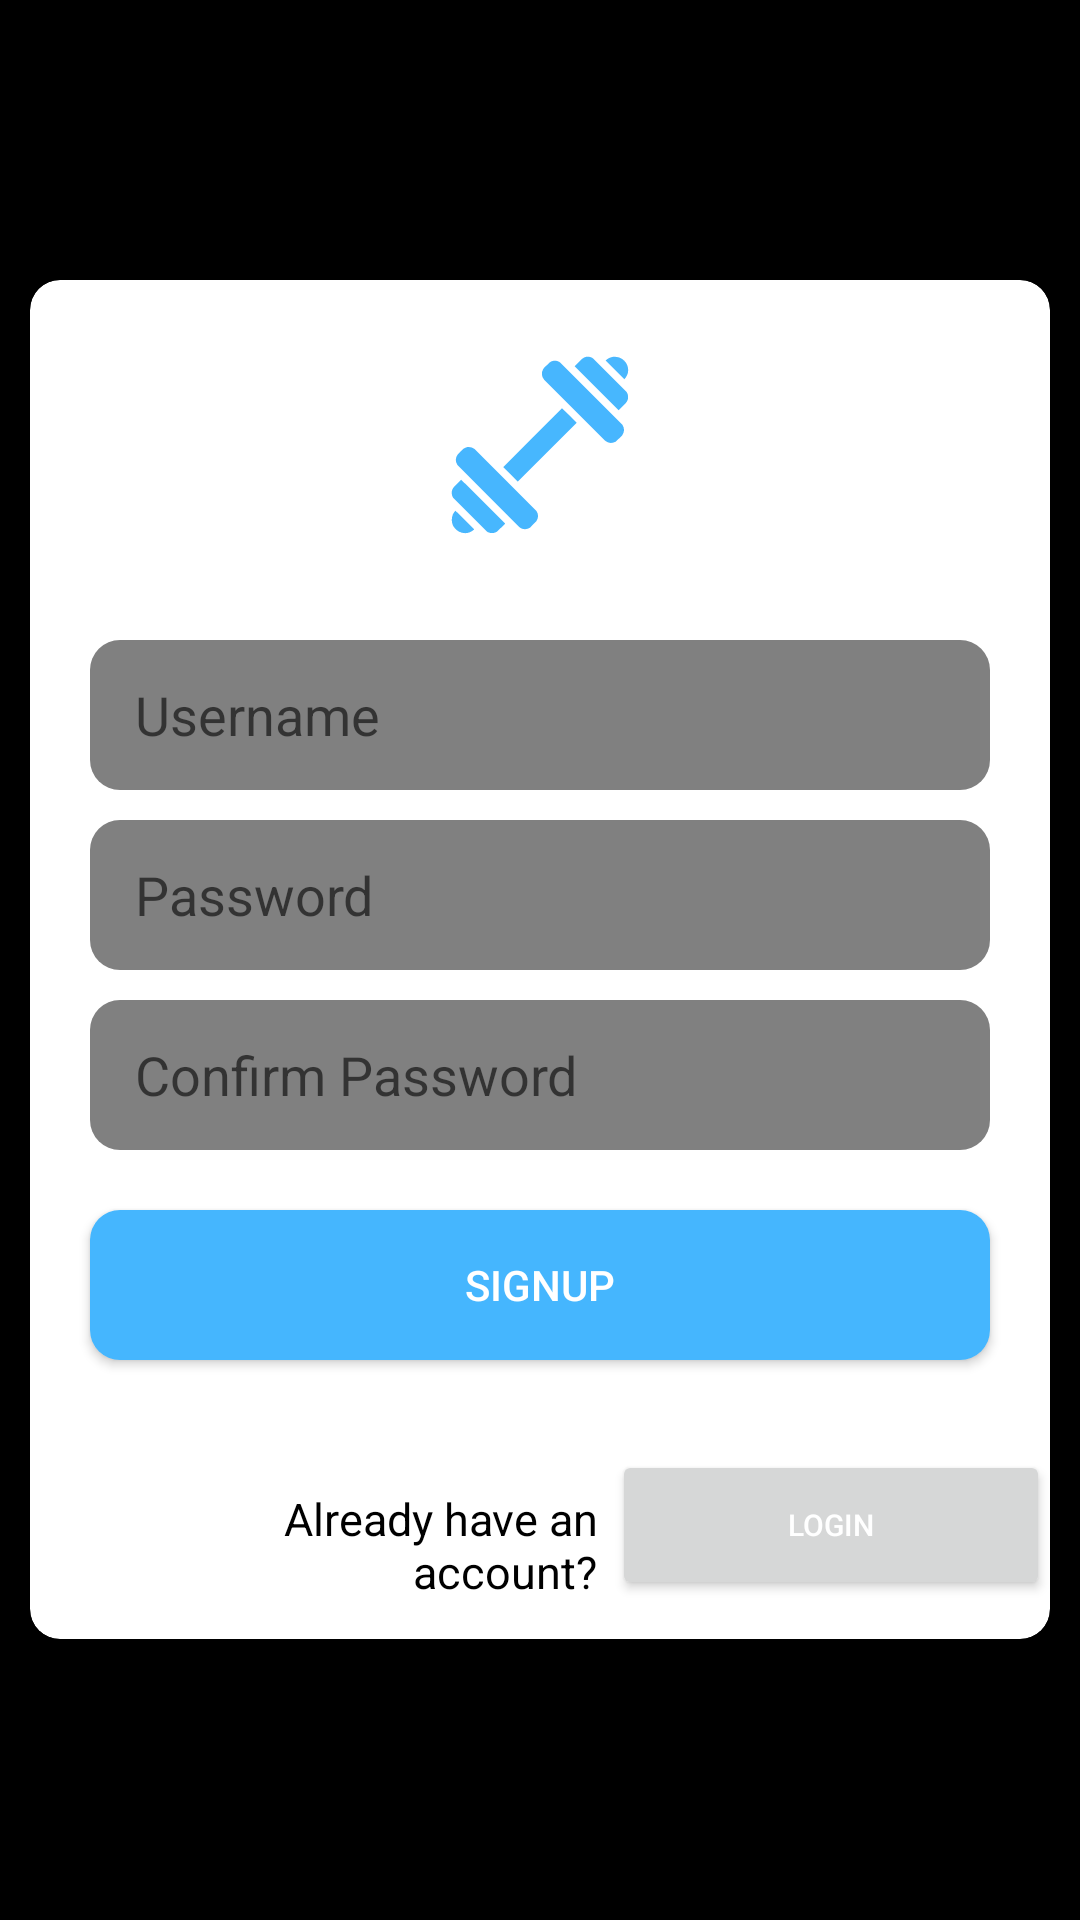

Named icons in this screenshot (1080px×1920px) and their centers, point (x, y):
dumbbell login: point (540, 445)
